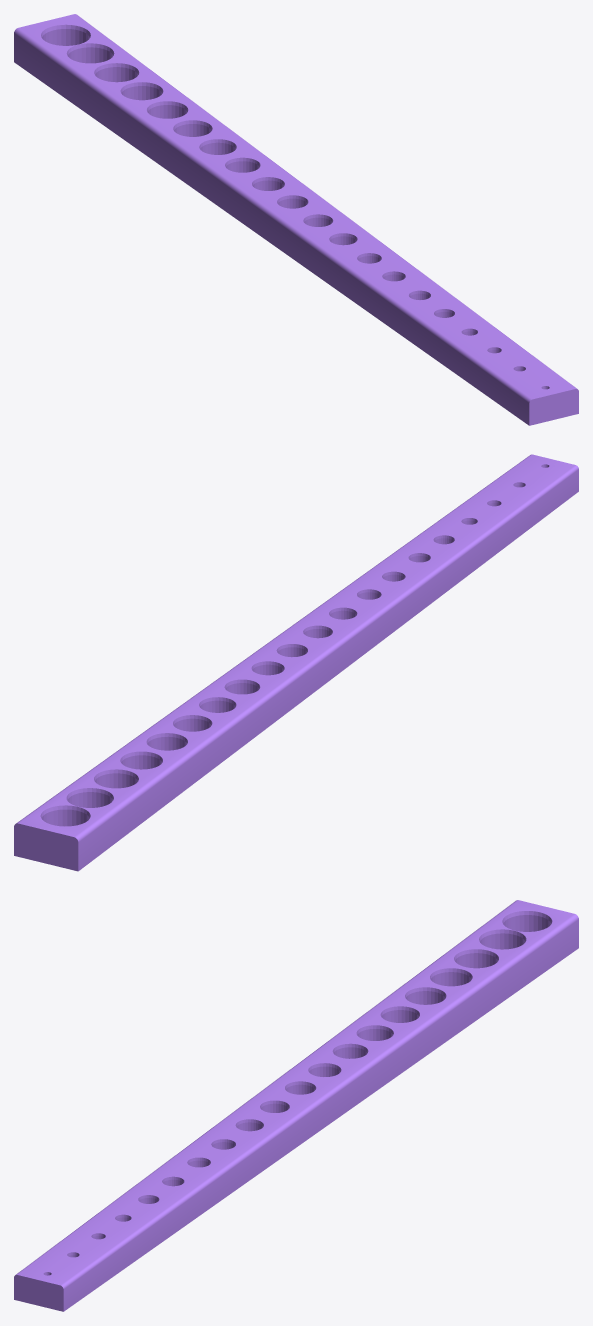
File: PurplePlatform.fbx
3 renders of one model, top to bottom at view 1: azimuth 30°, elevation 25°; view 2: azimuth 150°, elevation 25°; view 3: azimuth 330°, elevation 25°, orthographic.
Visible parts, largest first — view 1: Cube.005; view 2: Cube.005; view 3: Cube.005.
Boxes of the visible parts, bbox=[...] form: Cube.005: bbox=[14, 14, 578, 425]; Cube.005: bbox=[14, 454, 578, 871]; Cube.005: bbox=[14, 900, 578, 1311].
Bounding box in the file's own units: 368 × 182 × 5035.
Materials: 1 (1 with a texture image).
